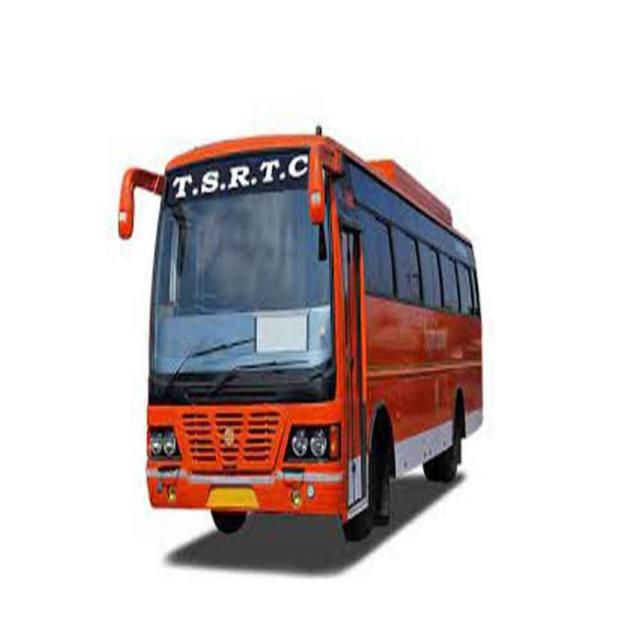bus: (120, 136, 484, 549)
